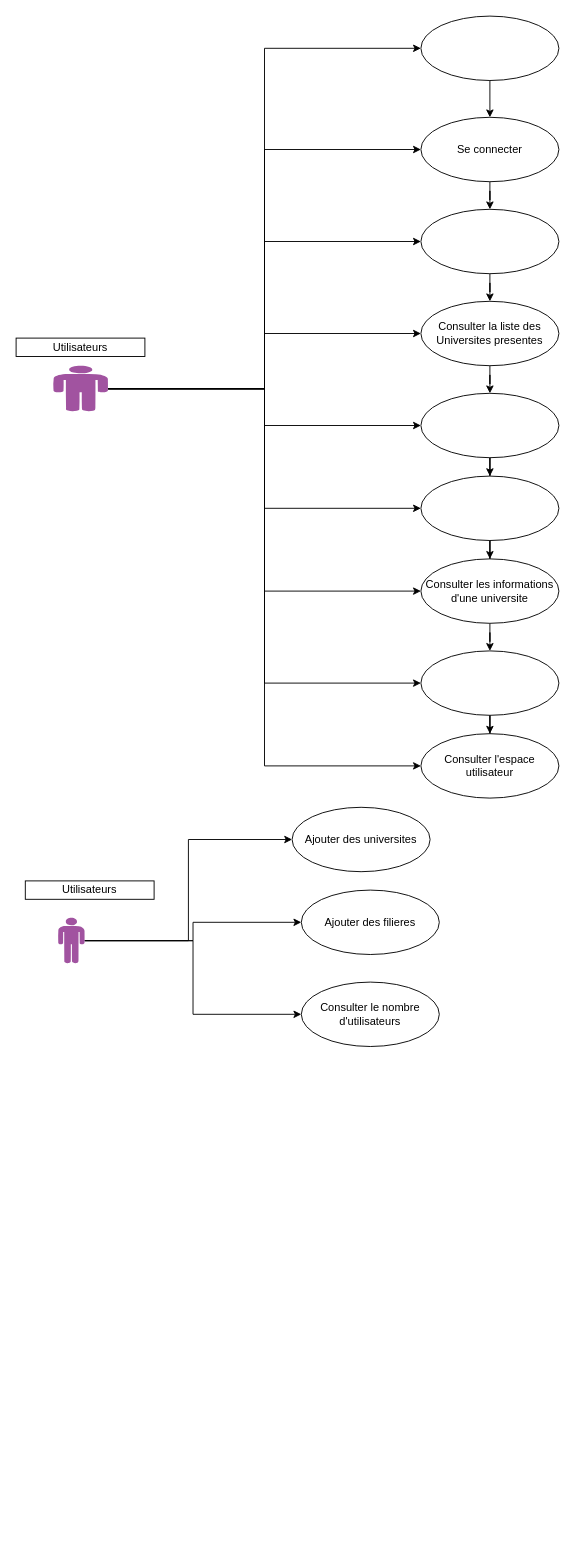
Image size: 575x1567. Some labels were removed from this diagram. The centre of each missing label's shape, as x and y in pixels:
"Ajout aux favoris" goes at (489,682).
"Creer un compte" goes at (489,47).
"Faire le quiz de recommandation" goes at (489,241).
"rechercher une filiere specifique" goes at (489,425).
"Voir le classement des universites" goes at (489,507).
